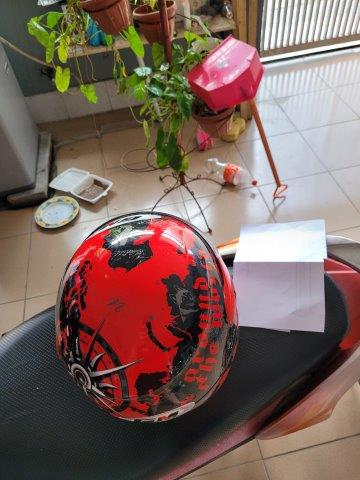botolplastik: (204, 156, 258, 188)
kertas: (230, 220, 327, 331)
